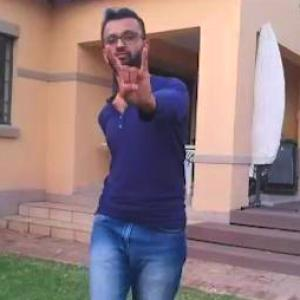takeoff-hand: (98, 38, 156, 116)
